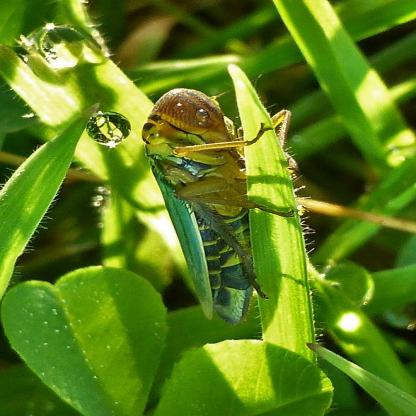Green-Leafhopper: (136, 85, 311, 329)
